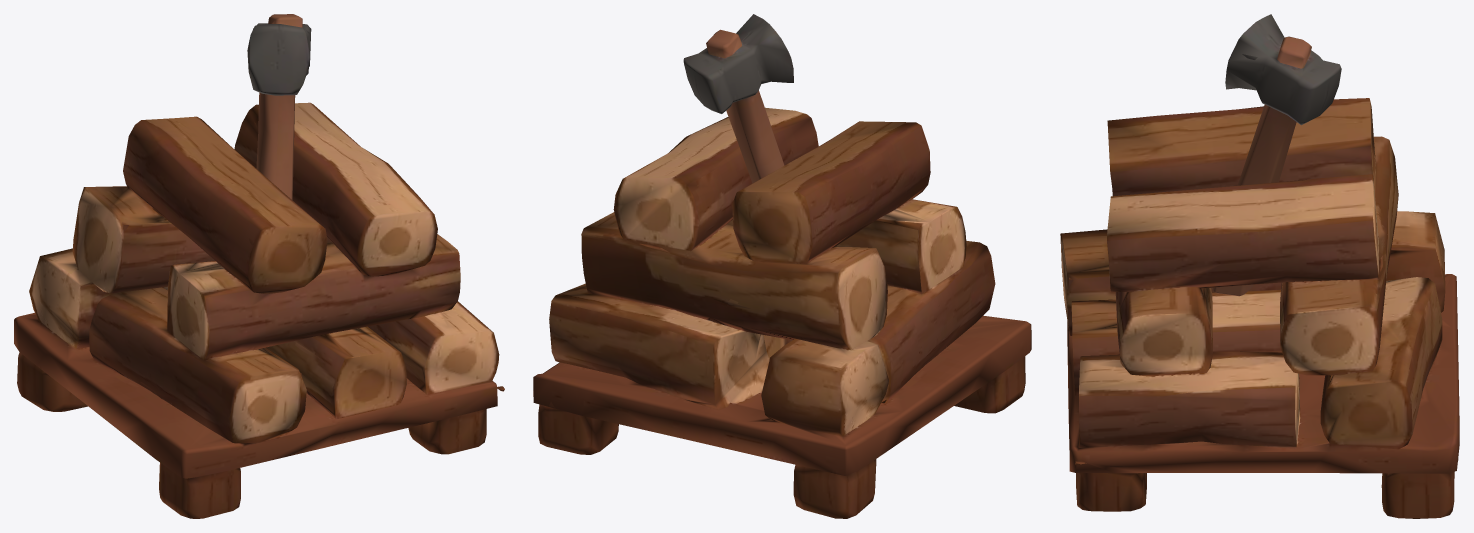
The model's file is woodpile.glb.
3 renders of one model, left to right at view 1: azimuth 30°, elevation 25°; view 2: azimuth 150°, elevation 25°; view 3: azimuth 270°, elevation 25°, orthographic. The views are drawn at different scales.
Size of the model in its own units: 0.95 by 1.09 by 0.9266.
1 material, 1 textured.
